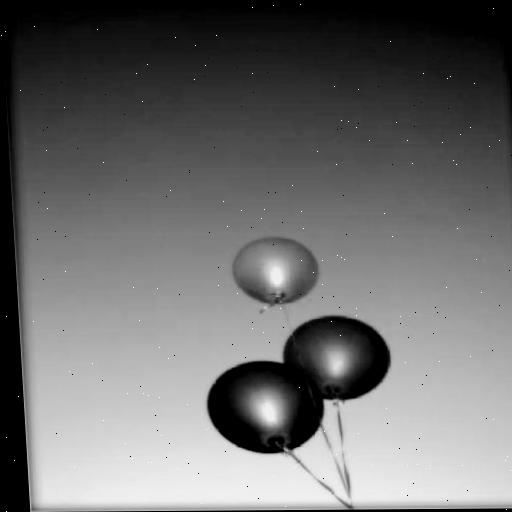balloon: (200, 352, 335, 456), (274, 312, 399, 412), (223, 228, 327, 310)
